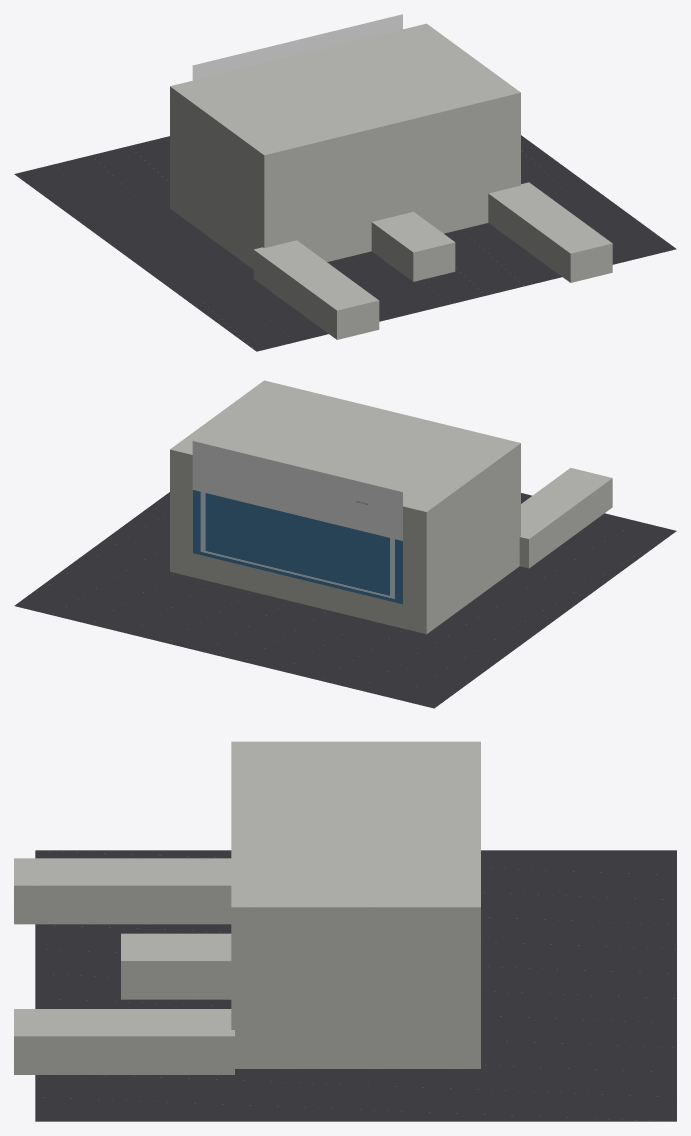
File: centro_comercial_9x9_bien_del_sur.glb
The picture shows the model from 3 angles, top to bottom: view 1: azimuth 30°, elevation 25°; view 2: azimuth 150°, elevation 25°; view 3: azimuth 270°, elevation 25°; orthographic projection. The views are drawn at different scales.
Bounding box in the file's own units: 9 × 2.8 × 9.3.
4 materials, 4 textured.
